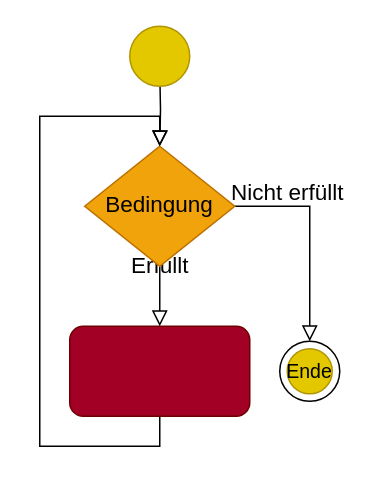
The diagram is 369 pixels wide and 488 high, and some of its shapes have lost their labels. The shapes that lost their labels are listed below. From the top down, each one's centre as x and y in pixels, then its label:
pixel 159 55: Start
pixel 159 370: Anweisung
